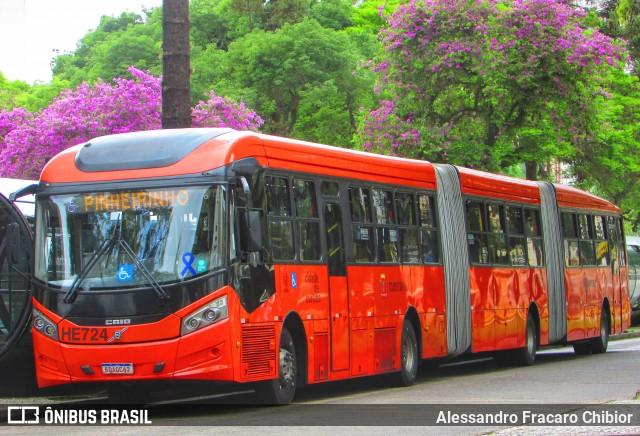PINHEIRINHO: (78, 185, 194, 215)
